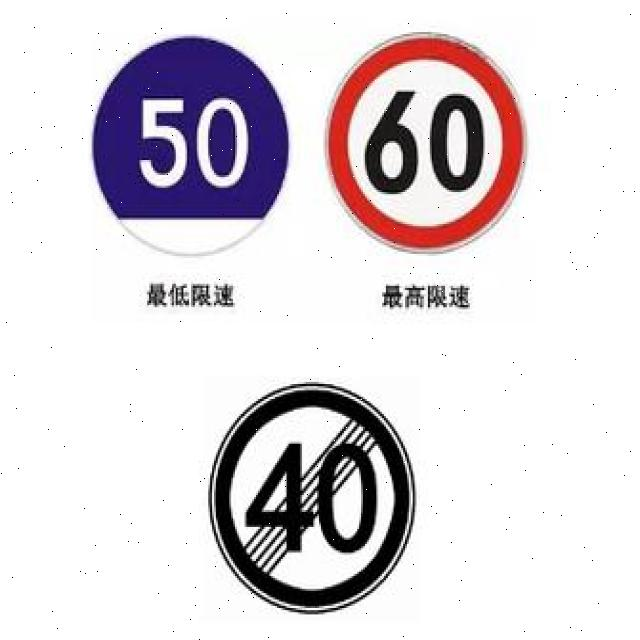speed limit 50: (91, 36, 290, 261)
speed limit 60: (328, 35, 528, 254)
